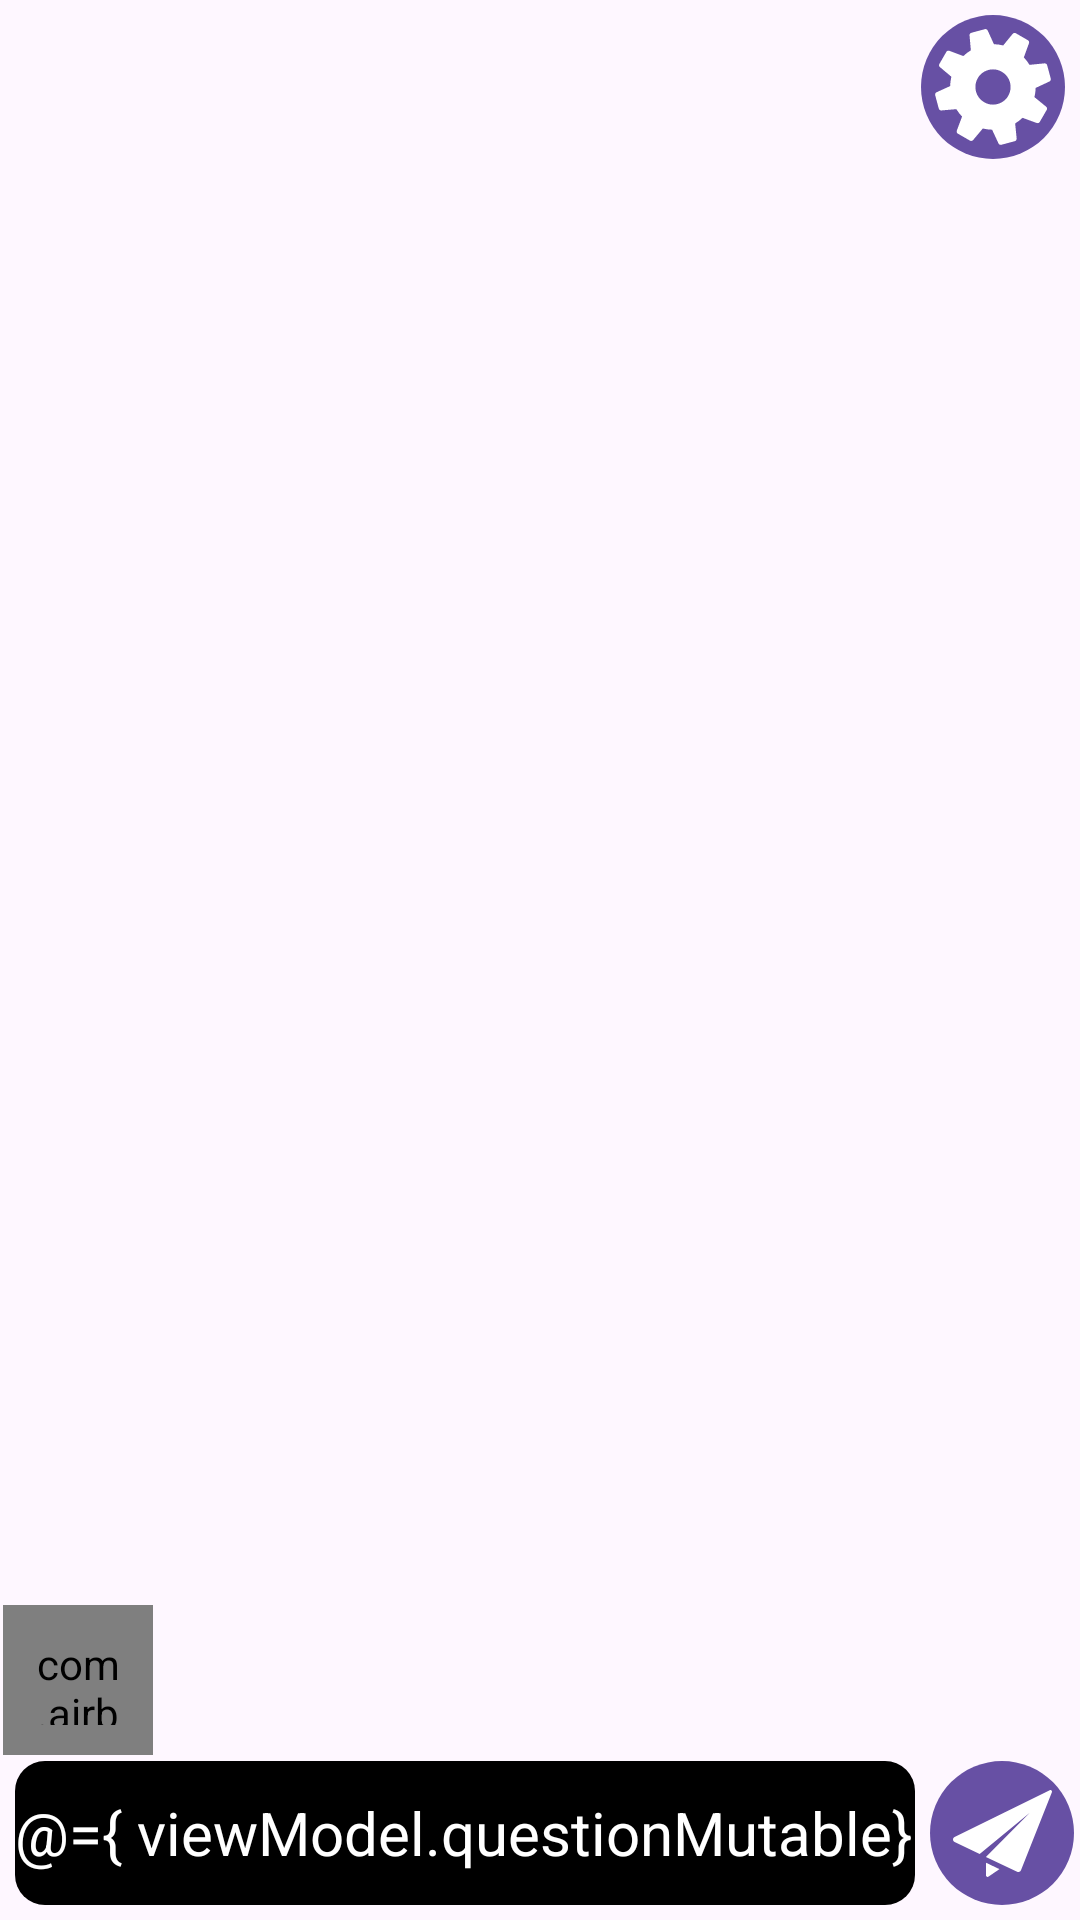

Point at icon controls on the screen. Image size 1080x1920, points as point (x, y).
Send: point (1002, 1833)
settings: point (993, 87)
